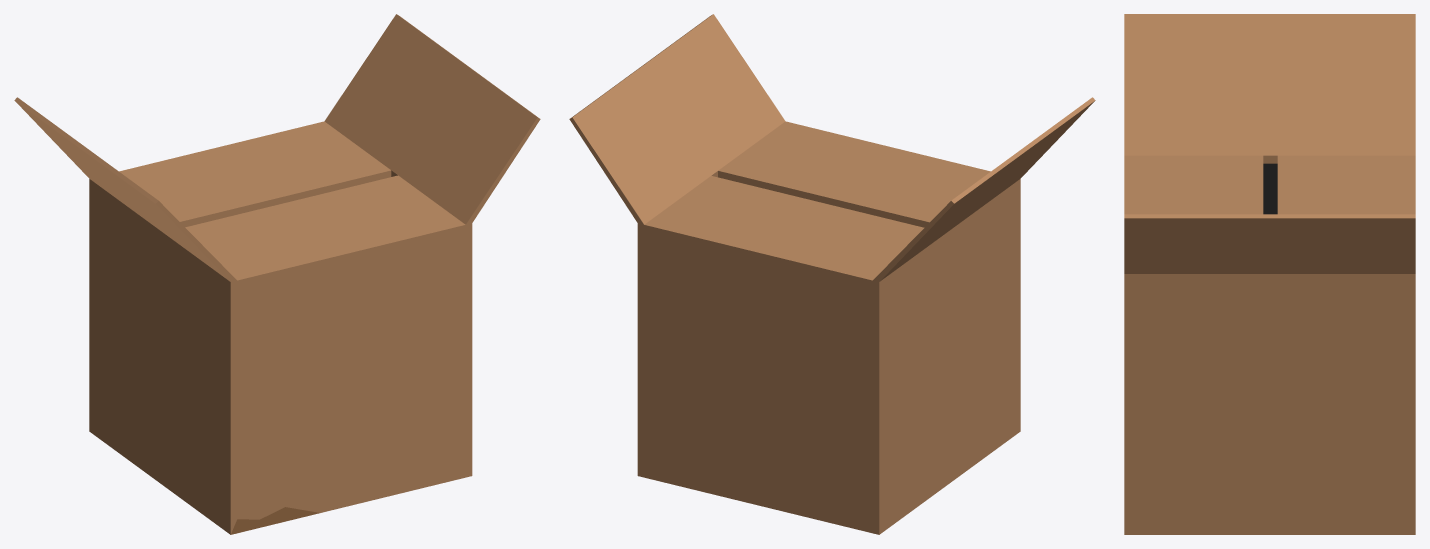
The model's file is SM_Props_Box_02.fbx.
3 renders of one model, left to right at view 1: azimuth 30°, elevation 25°; view 2: azimuth 150°, elevation 25°; view 3: azimuth 270°, elevation 25°, orthographic. The views are drawn at different scales.
Visible parts, largest first — view 1: SM_Props_Box_02; view 2: SM_Props_Box_02; view 3: SM_Props_Box_02.
Part boxes in pixels (box(x1,y1,x2,y2)): SM_Props_Box_02: box(14, 14, 540, 534); SM_Props_Box_02: box(569, 14, 1095, 534); SM_Props_Box_02: box(1124, 14, 1415, 534).
Size of the model in its own units: 59.34 by 51.83 by 37.73.
